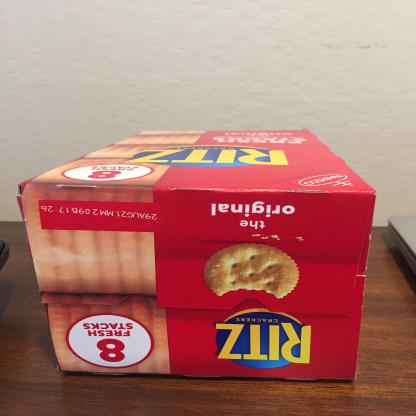RitzBox: (18, 116, 385, 385)
